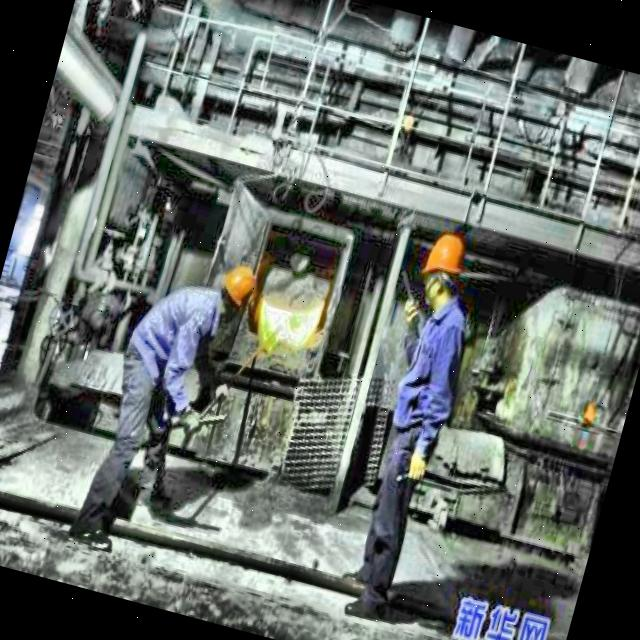helmet: (408, 223, 476, 323), (214, 262, 265, 322)
